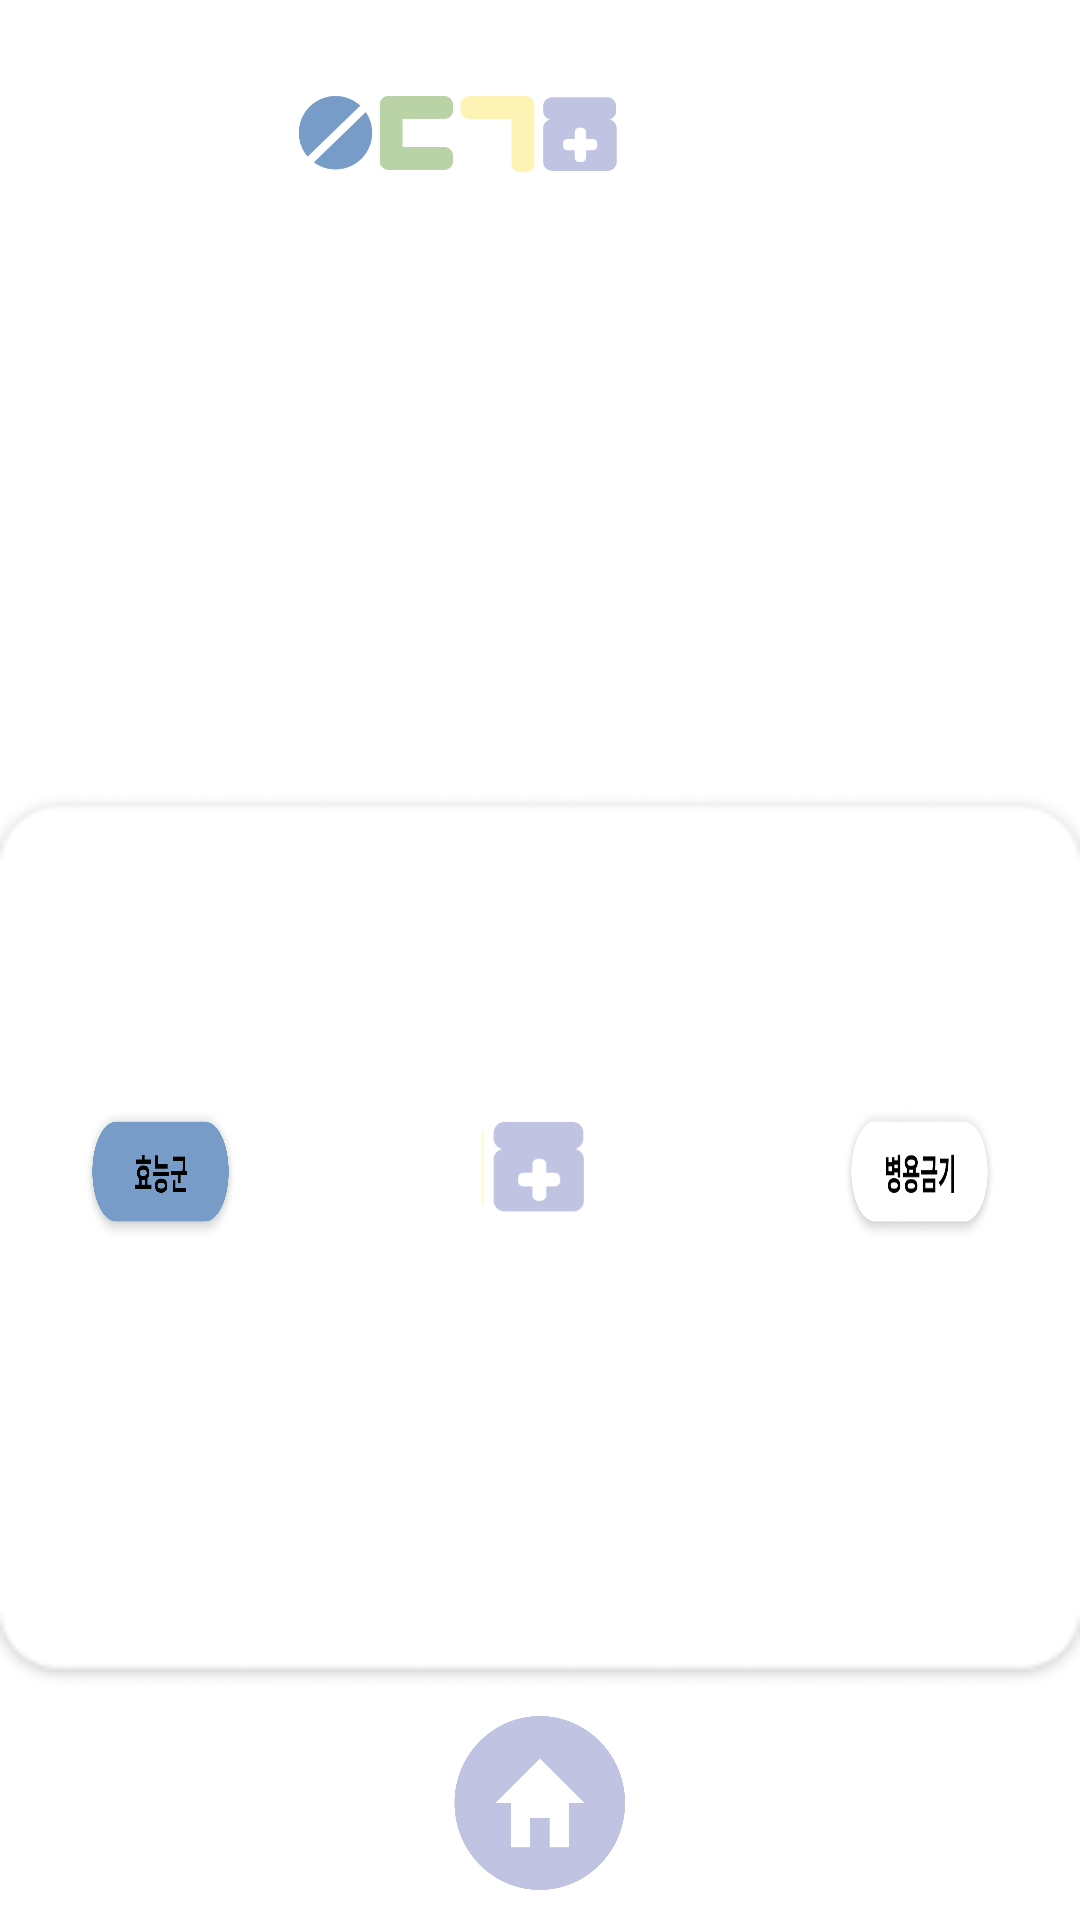

Point at icon controls on the screen. Image size 1080 × 1920, points as (x=x, y=y).
bottle: (x=533, y=1167)
